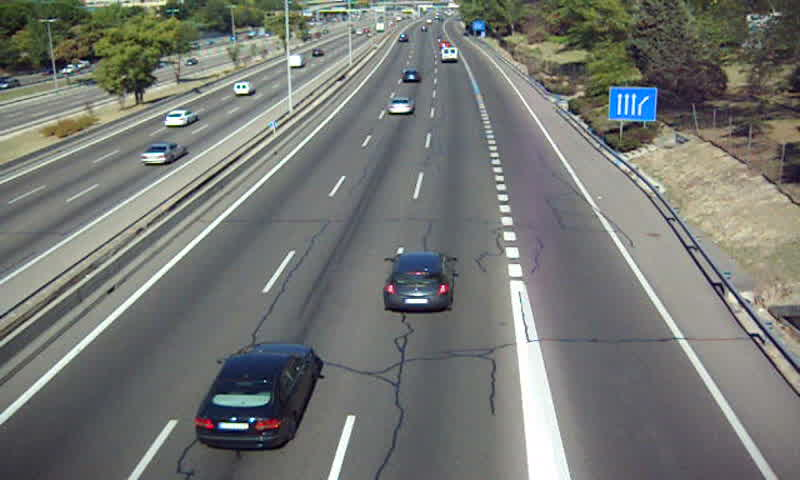car: (194, 345, 319, 450), (384, 254, 453, 311), (388, 96, 414, 115), (401, 70, 421, 86)
van: (442, 46, 459, 64)
